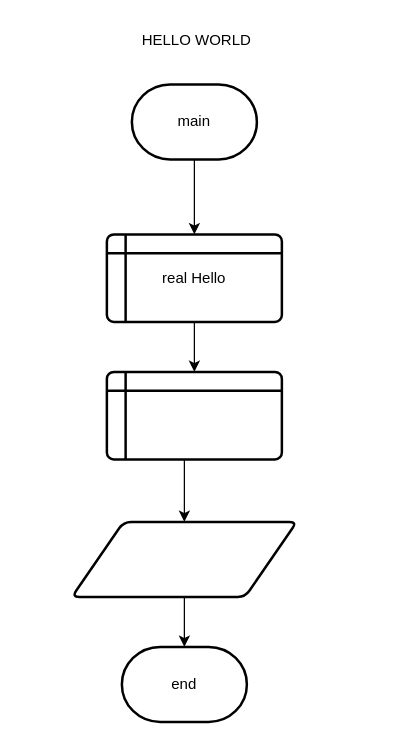
The diagram is 393 pixels wide and 744 high, and some of its shapes have lost their labels. The box of each missing label's shape, as (x1, y1, x2, y2) in pixels:
output "Hello World!": (70, 520, 298, 598)
real World: (105, 370, 282, 460)
